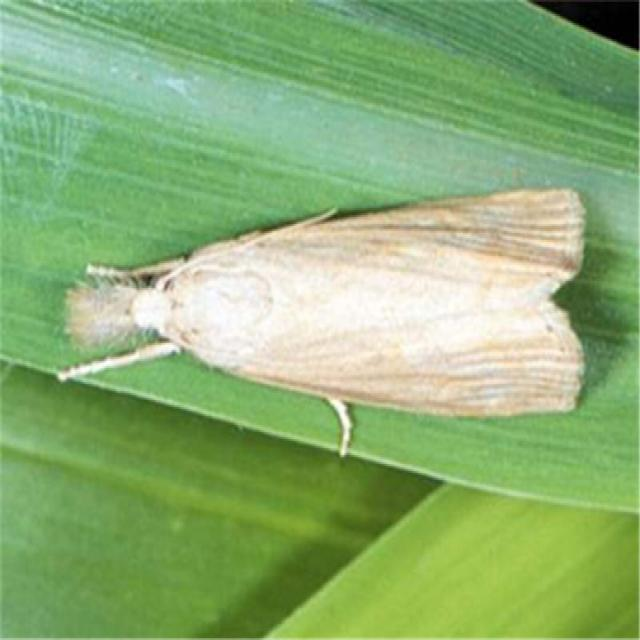cornborer-Adult-: (55, 174, 596, 470)
